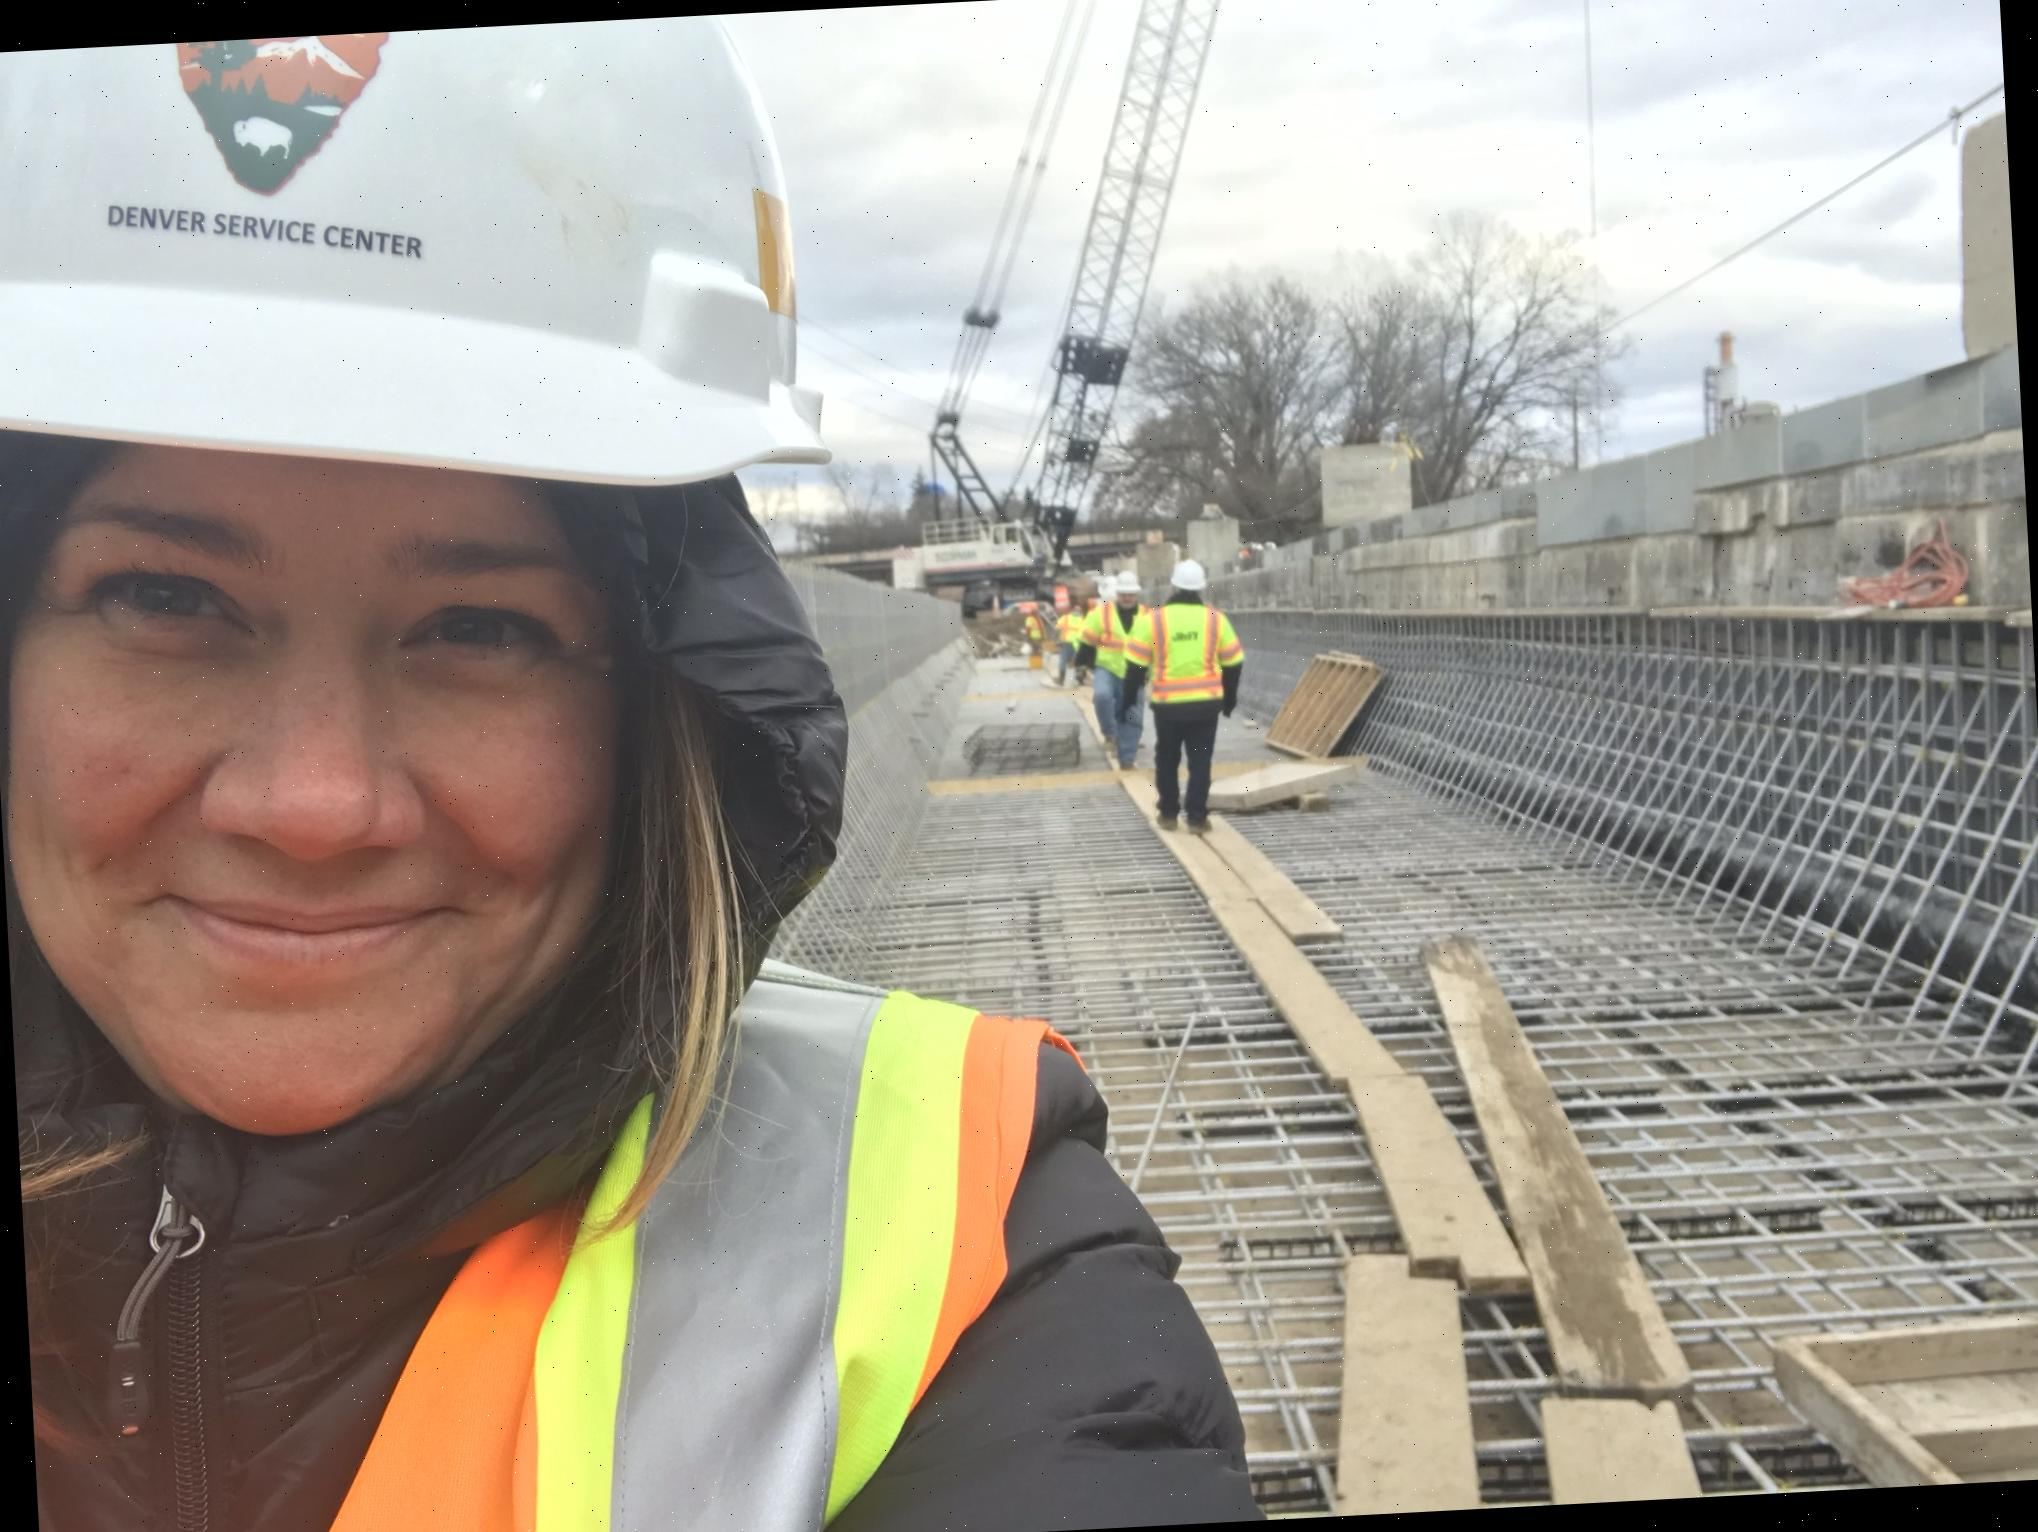helmet: (0, 11, 801, 541), (1168, 557, 1213, 600), (1116, 570, 1140, 597)
wear: (14, 1022, 1243, 1532), (1147, 605, 1224, 702), (1092, 605, 1150, 673)
